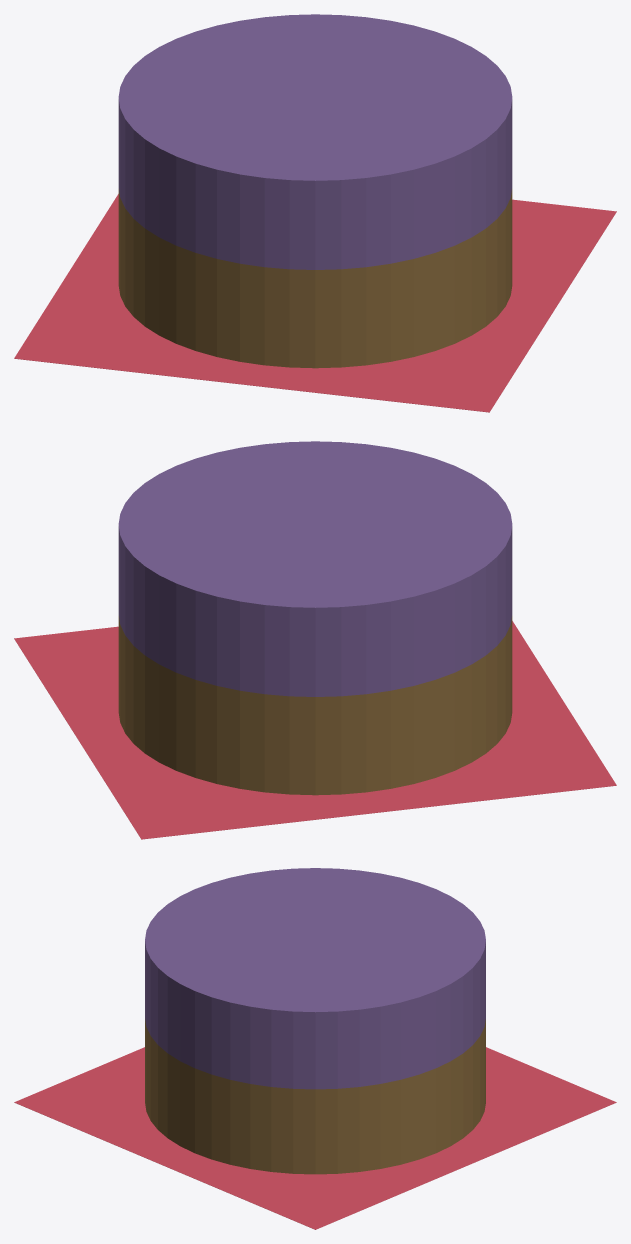
The model's file is CCU.glb.
3 renders of one model, top to bottom at view 1: azimuth 30°, elevation 25°; view 2: azimuth 150°, elevation 25°; view 3: azimuth 270°, elevation 25°, orthographic. The views are drawn at different scales.
Parts seen in each view (by area): view 1: Mesh_Mesh_head_geo.001_lambert2SG.001; view 2: Mesh_Mesh_head_geo.001_lambert2SG.001; view 3: Mesh_Mesh_head_geo.001_lambert2SG.001.
Part boxes in pixels (<box>): Mesh_Mesh_head_geo.001_lambert2SG.001: <box>14,14,616,412</box>; Mesh_Mesh_head_geo.001_lambert2SG.001: <box>14,441,616,839</box>; Mesh_Mesh_head_geo.001_lambert2SG.001: <box>14,868,616,1229</box>.
Bounding box in the file's own units: 0.0354 × 0.0105 × 0.0354.
